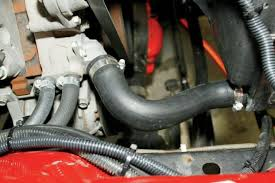radiator_hose: (89, 56, 239, 131)
